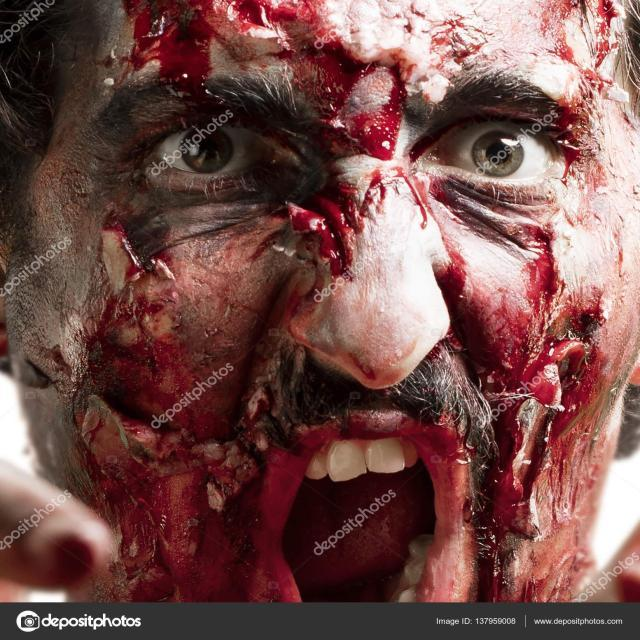flood: (98, 1, 640, 600)
